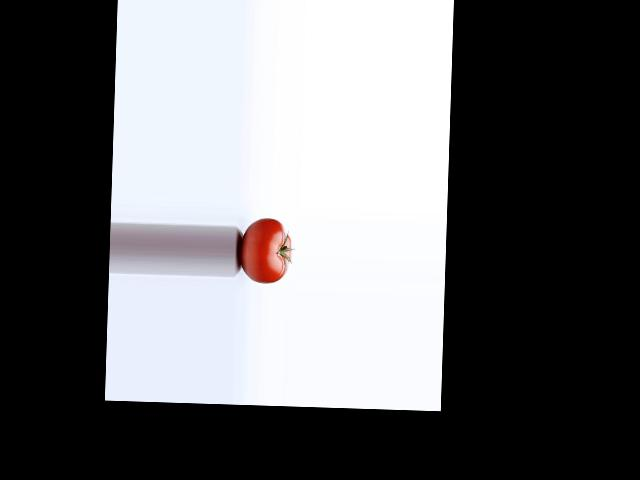tomato: (240, 217, 292, 284)
